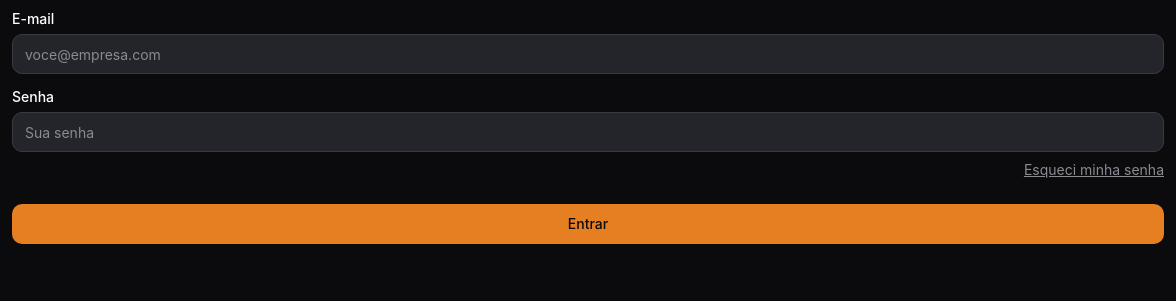
LoginForm › mostra mensagem genérica para erros inesperados
This screenshot has width=1176, height=301.
Type "ana@claudequest.dev" into the field labelled "E-mail" at (588, 54), box [12,34,1164,74]
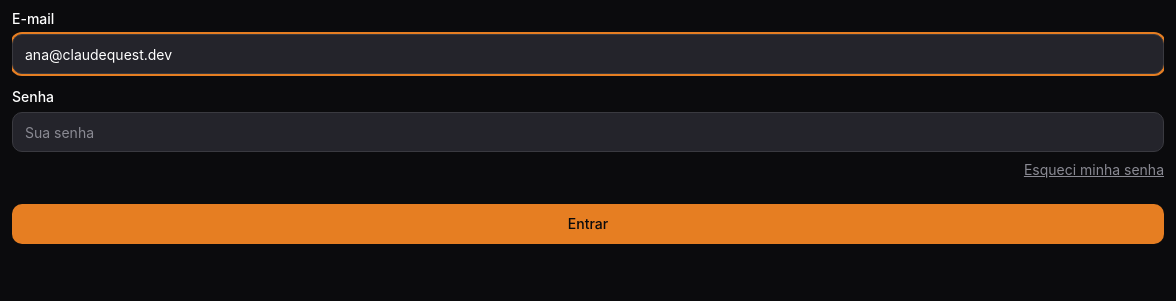
Type "qualquer" into the password field labelled "Senha" at (588, 132), box [12,112,1164,152]
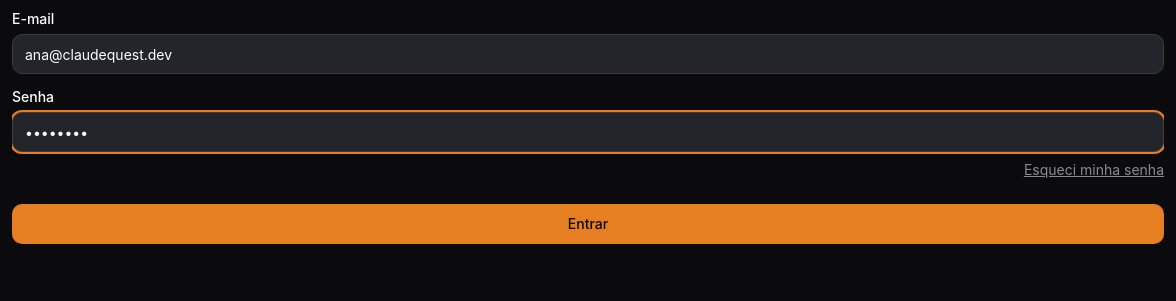
Click the button "Entrar" at (588, 224), box [12,204,1164,244]
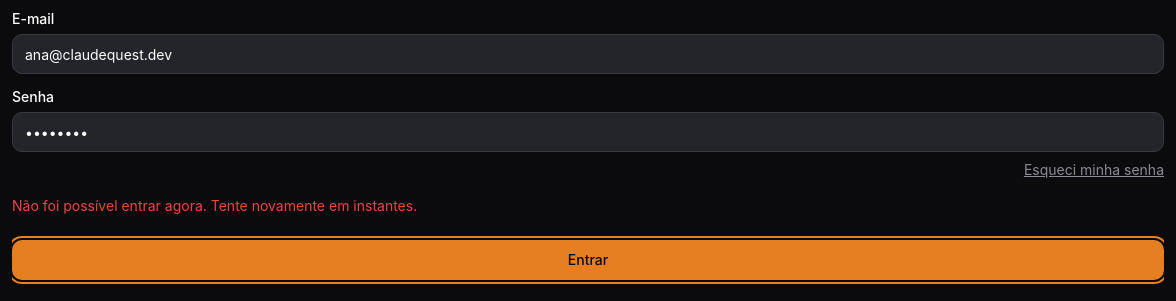
Expected: the text "Não foi possível entrar agora. Tente novamente em instantes." is shown, [12,197,417,214]
